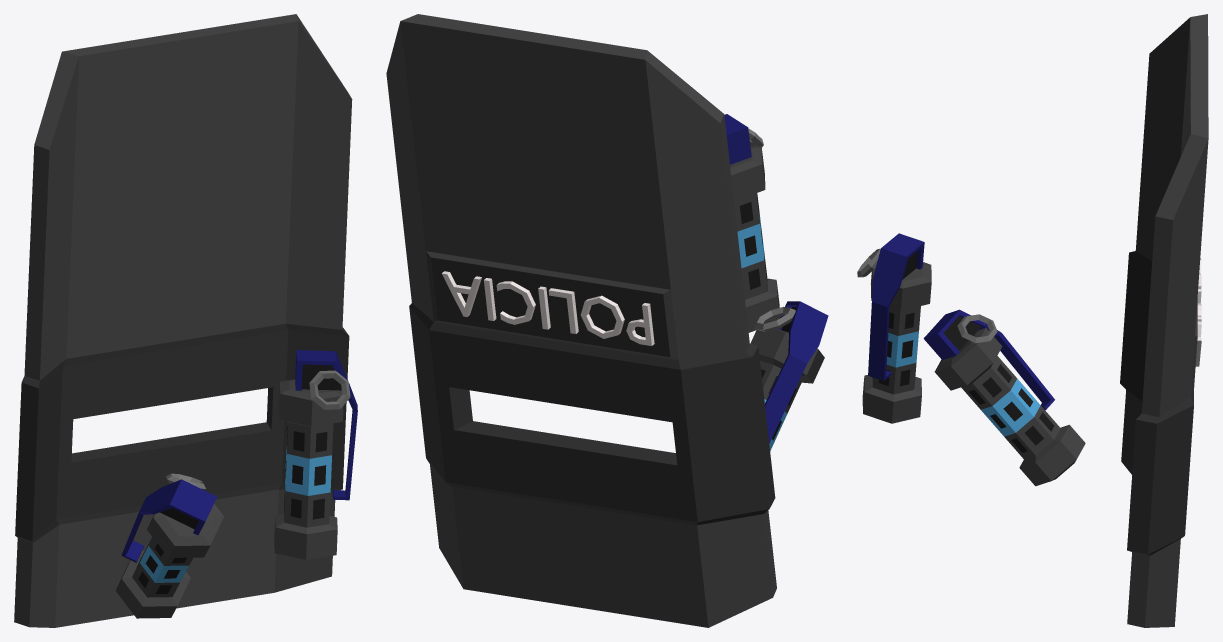
The model's file is RiotZombie.glb.
3 views of the same model, side by side, from view 1: azimuth 30°, elevation 25°; view 2: azimuth 150°, elevation 25°; view 3: azimuth 270°, elevation 25° (orthographic). The views are drawn at different scales.
Parts seen in each view (by area): view 1: PoliceShield, FlashBang (×2); view 2: PoliceShield, FlashBang (×2); view 3: PoliceShield, FlashBang (×2).
Part boxes in pixels (bbox=[...]): PoliceShield: bbox=[14, 14, 352, 627]; FlashBang (×2): bbox=[115, 350, 357, 618]; PoliceShield: bbox=[386, 14, 776, 627]; FlashBang (×2): bbox=[724, 114, 828, 451]; PoliceShield: bbox=[1120, 14, 1208, 627]; FlashBang (×2): bbox=[857, 233, 1085, 486].
Size of the model in its own units: 1.13 by 1.73 by 1.05.
2 materials, 2 textured.
